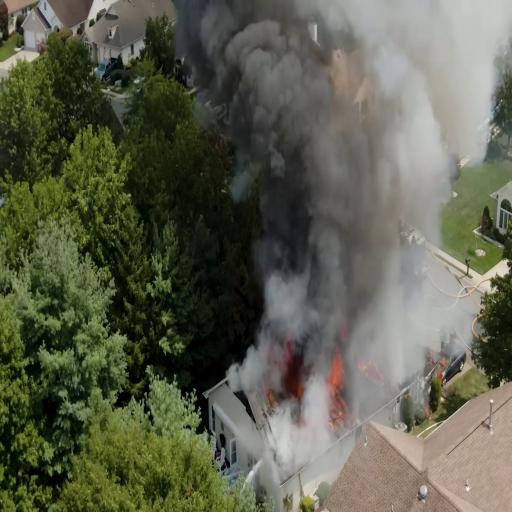smoke: (332, 2, 478, 148), (270, 127, 384, 307), (213, 0, 326, 133)
